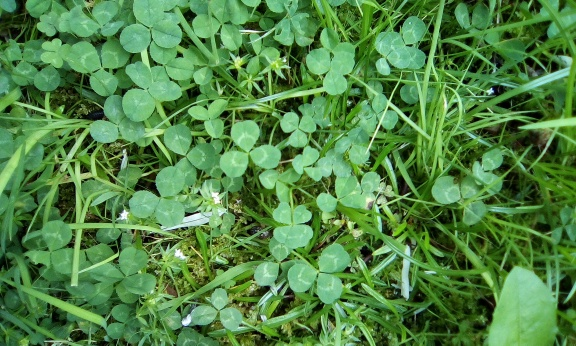4leaf: (273, 201, 313, 249)
